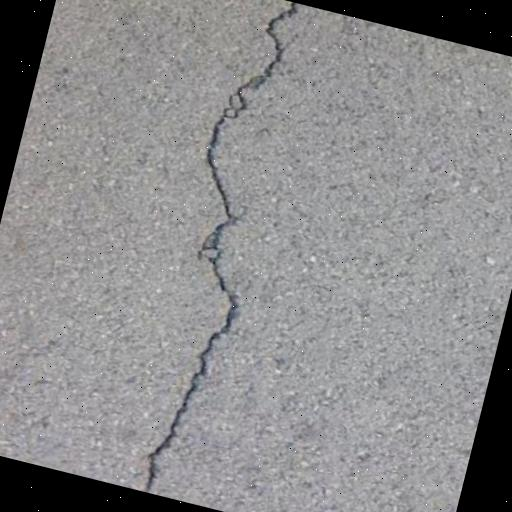spalling: (130, 0, 324, 498)
